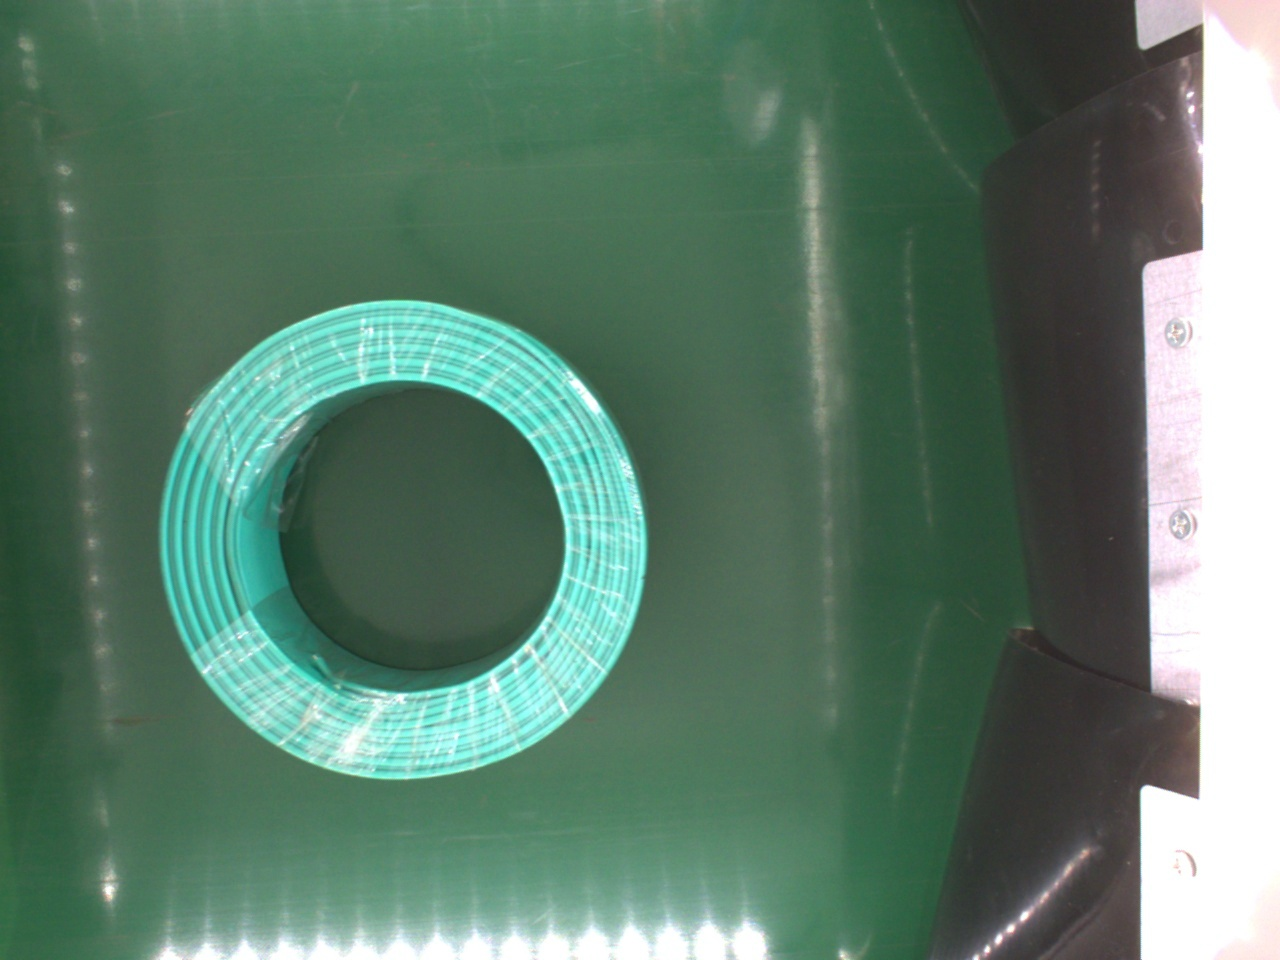green: (154, 299, 648, 781)
